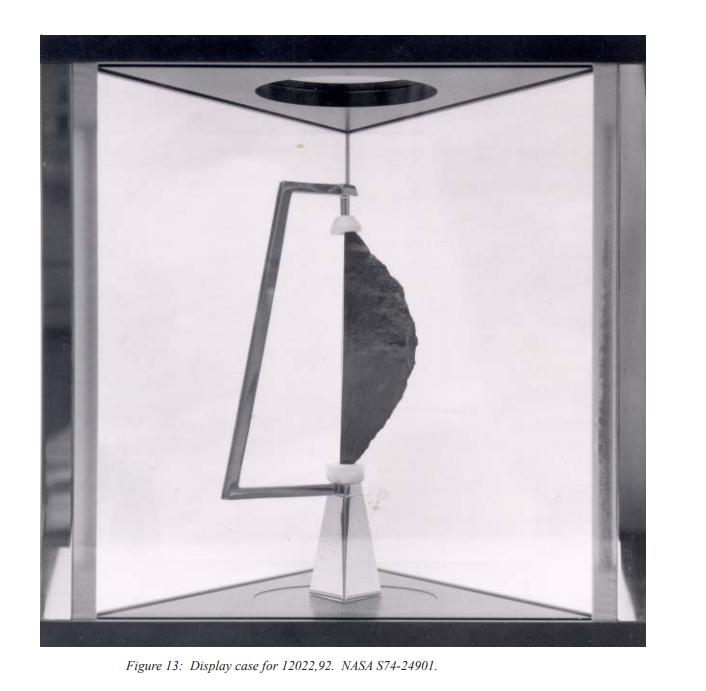Basalt: (330, 225, 423, 448)
